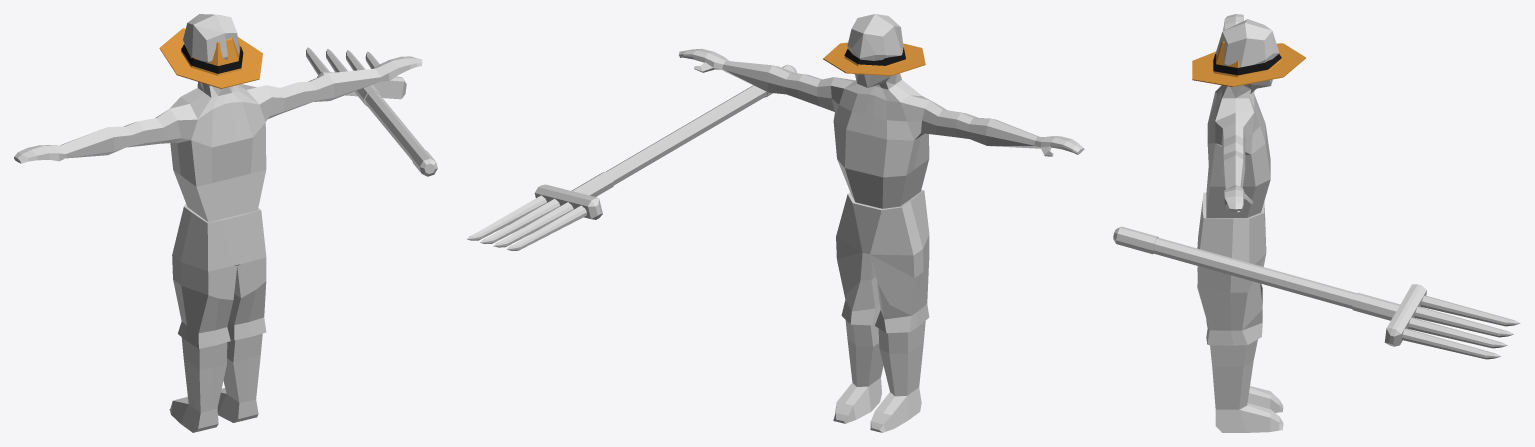
Rendered from ENEMY .fbx.
3 views of the same model, side by side, from view 1: azimuth 30°, elevation 25°; view 2: azimuth 150°, elevation 25°; view 3: azimuth 270°, elevation 25° (orthographic).
Visible parts, largest first — view 1: Cube.004, Plane.002, Sphere.001; view 2: Cube.004, Plane.002, Sphere.001; view 3: Cube.004, Plane.002, Sphere.001.
Part boxes in pixels (box(x1,y1,x2,y2)): Cube.004: box(14, 14, 422, 432); Plane.002: box(306, 47, 437, 176); Sphere.001: box(159, 28, 262, 88); Cube.004: box(679, 14, 1084, 432); Plane.002: box(467, 64, 796, 250); Sphere.001: box(823, 42, 925, 75); Cube.004: box(1197, 14, 1283, 432); Plane.002: box(1113, 226, 1520, 359); Sphere.001: box(1192, 39, 1305, 86).
Bounding box in the file's own units: 310 × 246 × 229.
